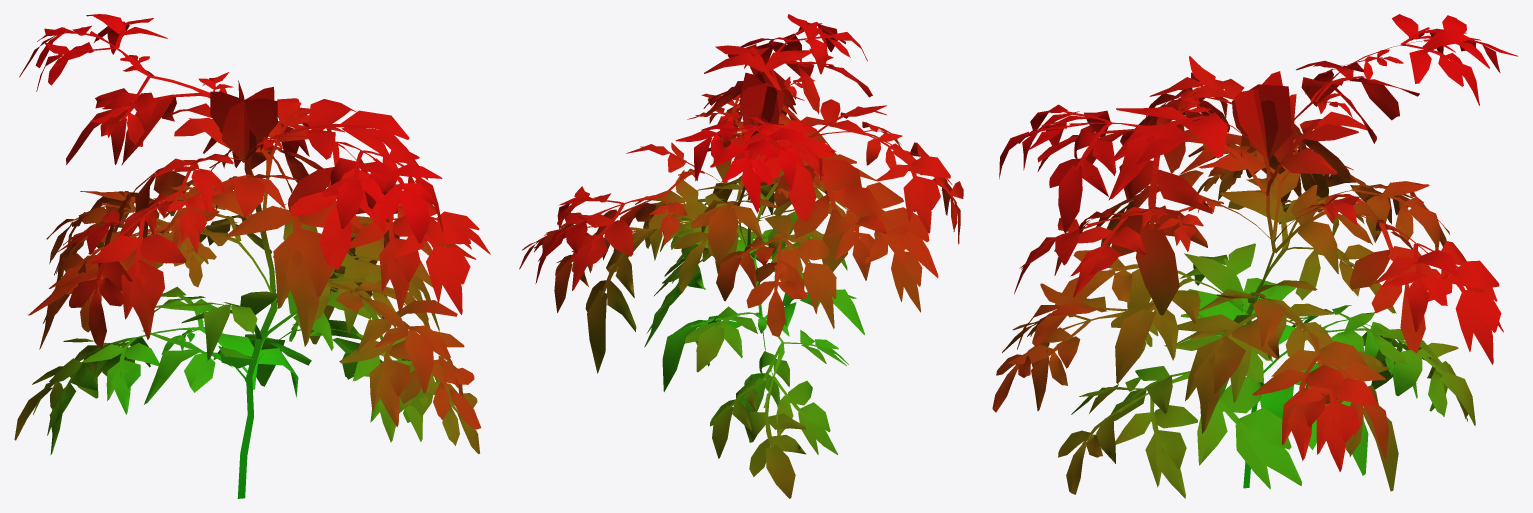
File: Var3_LOD2.fbx
3 renders of one model, left to right at view 1: azimuth 30°, elevation 25°; view 2: azimuth 150°, elevation 25°; view 3: azimuth 270°, elevation 25°, orthographic. The views are drawn at different scales.
Parts seen in each view (by area): view 1: _rxrf_Var3_LOD2; view 2: _rxrf_Var3_LOD2; view 3: _rxrf_Var3_LOD2.
Boxes of the visible parts, box(x1,y1,x2,y2) form: _rxrf_Var3_LOD2: box(14, 14, 490, 498); _rxrf_Var3_LOD2: box(519, 14, 963, 498); _rxrf_Var3_LOD2: box(992, 14, 1517, 498).
Bounding box in the file's own units: 103 × 89.76 × 98.58.
